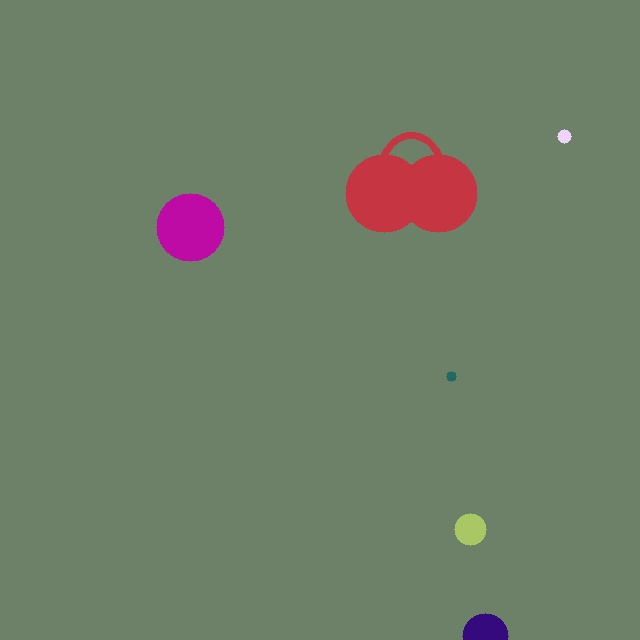over_ear: (341, 133, 481, 236)
